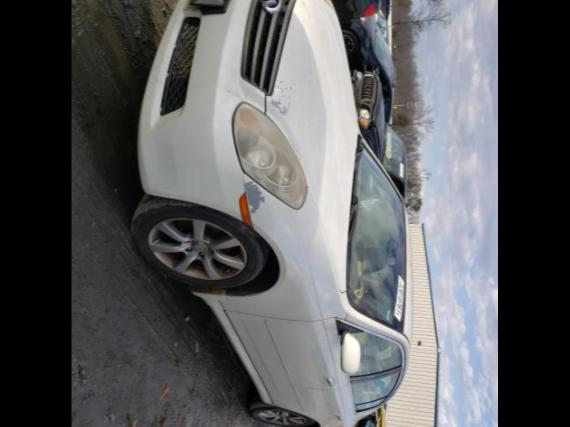Paint chip: (266, 76, 295, 121), (238, 178, 268, 220)
